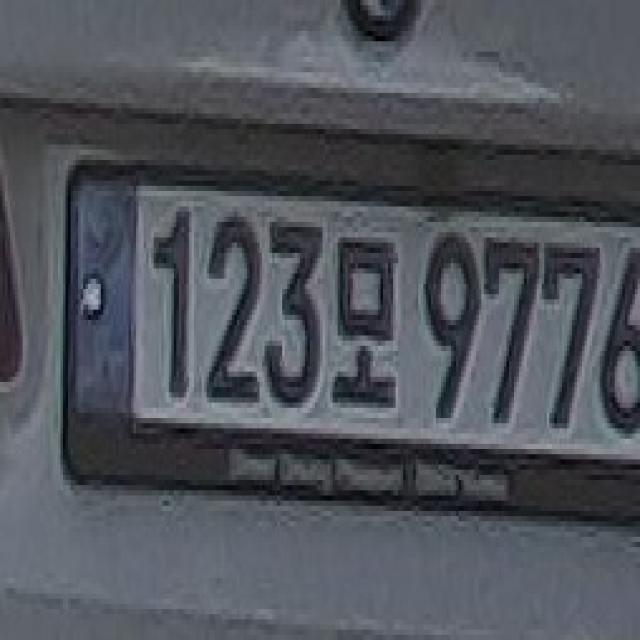plat: (61, 157, 638, 517)
